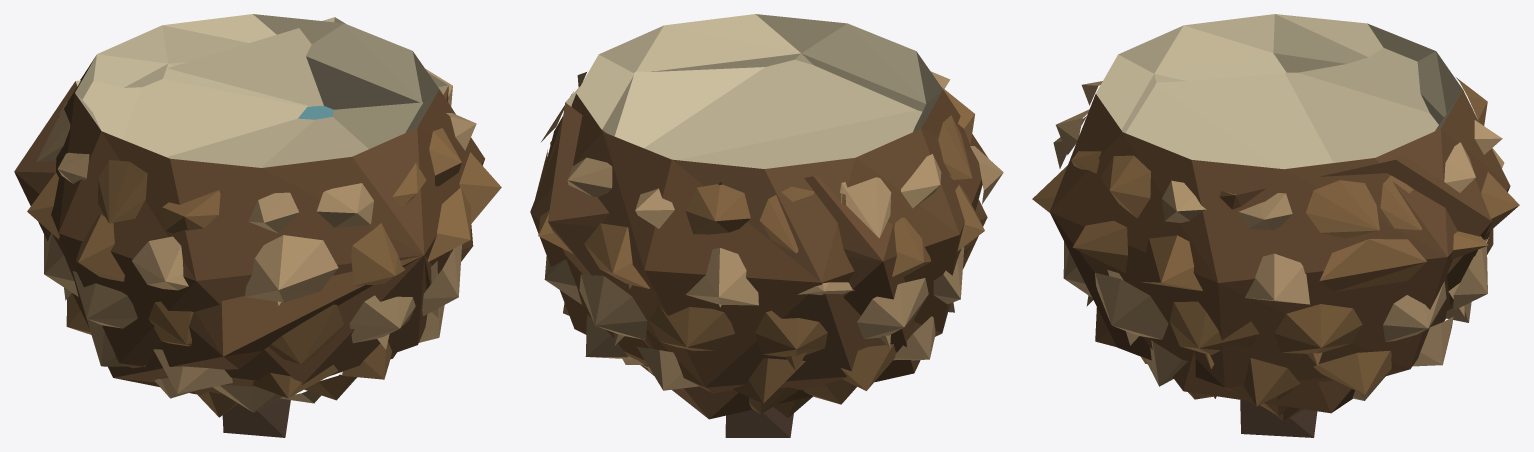
File: pf_acorn_basin.glb
The picture shows the model from 3 angles, left to right: view 1: azimuth 30°, elevation 25°; view 2: azimuth 150°, elevation 25°; view 3: azimuth 270°, elevation 25°; orthographic projection.
Visible parts, largest first — view 1: body, body__far; view 2: body, body__far; view 3: body, body__far.
Boxes of the visible parts, box(x1,y1,x2,y2) form: body: box(27, 14, 501, 437); body__far: box(14, 17, 451, 394); body: box(530, 14, 1003, 437); body__far: box(548, 59, 987, 419); body: box(1032, 14, 1519, 437); body__far: box(1050, 48, 1491, 413).
Bounding box in the file's own units: 0.4814 × 0.3781 × 0.4897.
